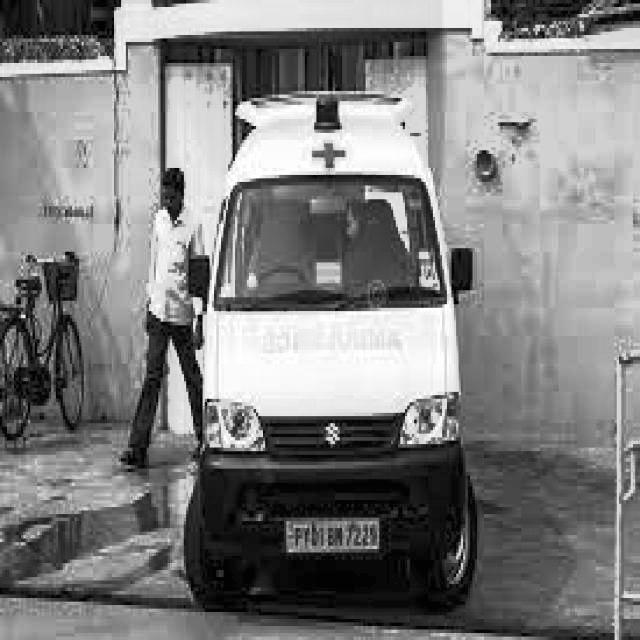LCV: (186, 88, 475, 546)
